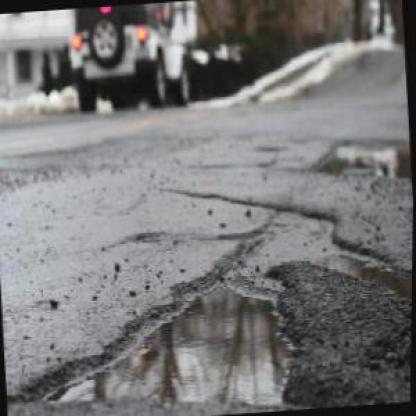pothole: (26, 262, 307, 415)
